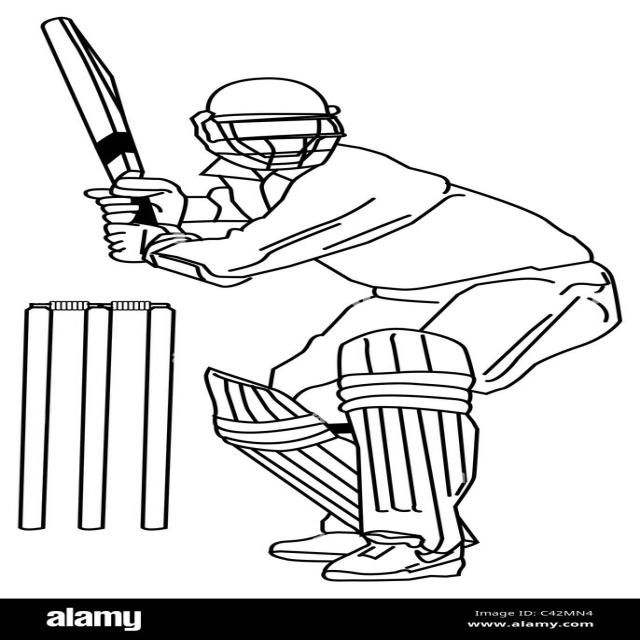stump: (15, 298, 174, 532)
